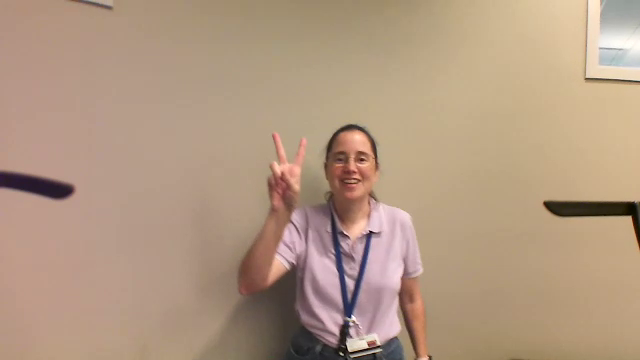peace: (262, 132, 311, 211)
